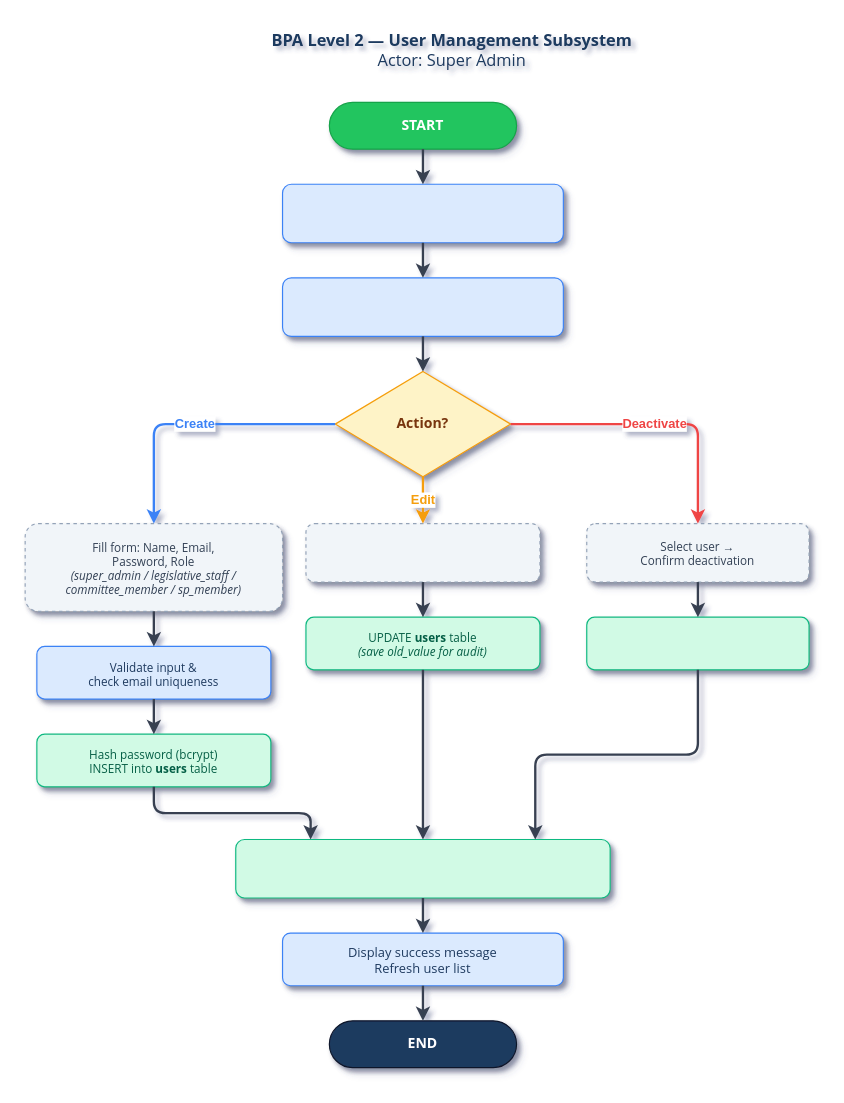
The diagram is 844 pixels wide and 1103 high, and some of its shapes have lost their labels. Here are the shapes that lost their labels. From the top down, the centre of each, then its label:
pixel 423 214: Super Admin opens User Management Module
pixel 423 308: View list of all users (name, email, role, status)
pixel 423 554: Select user → Edit fields (name, email, role)
pixel 698 644: SET is_active = 0 in users table
pixel 423 870: Log action to audit_logs (CREATE/UPDATE/DEACTIVATE, old_value, new_value)
